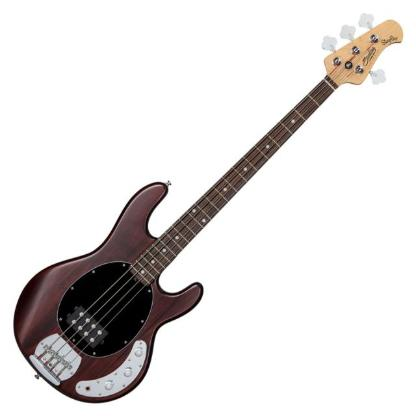bass: (13, 11, 402, 403)
